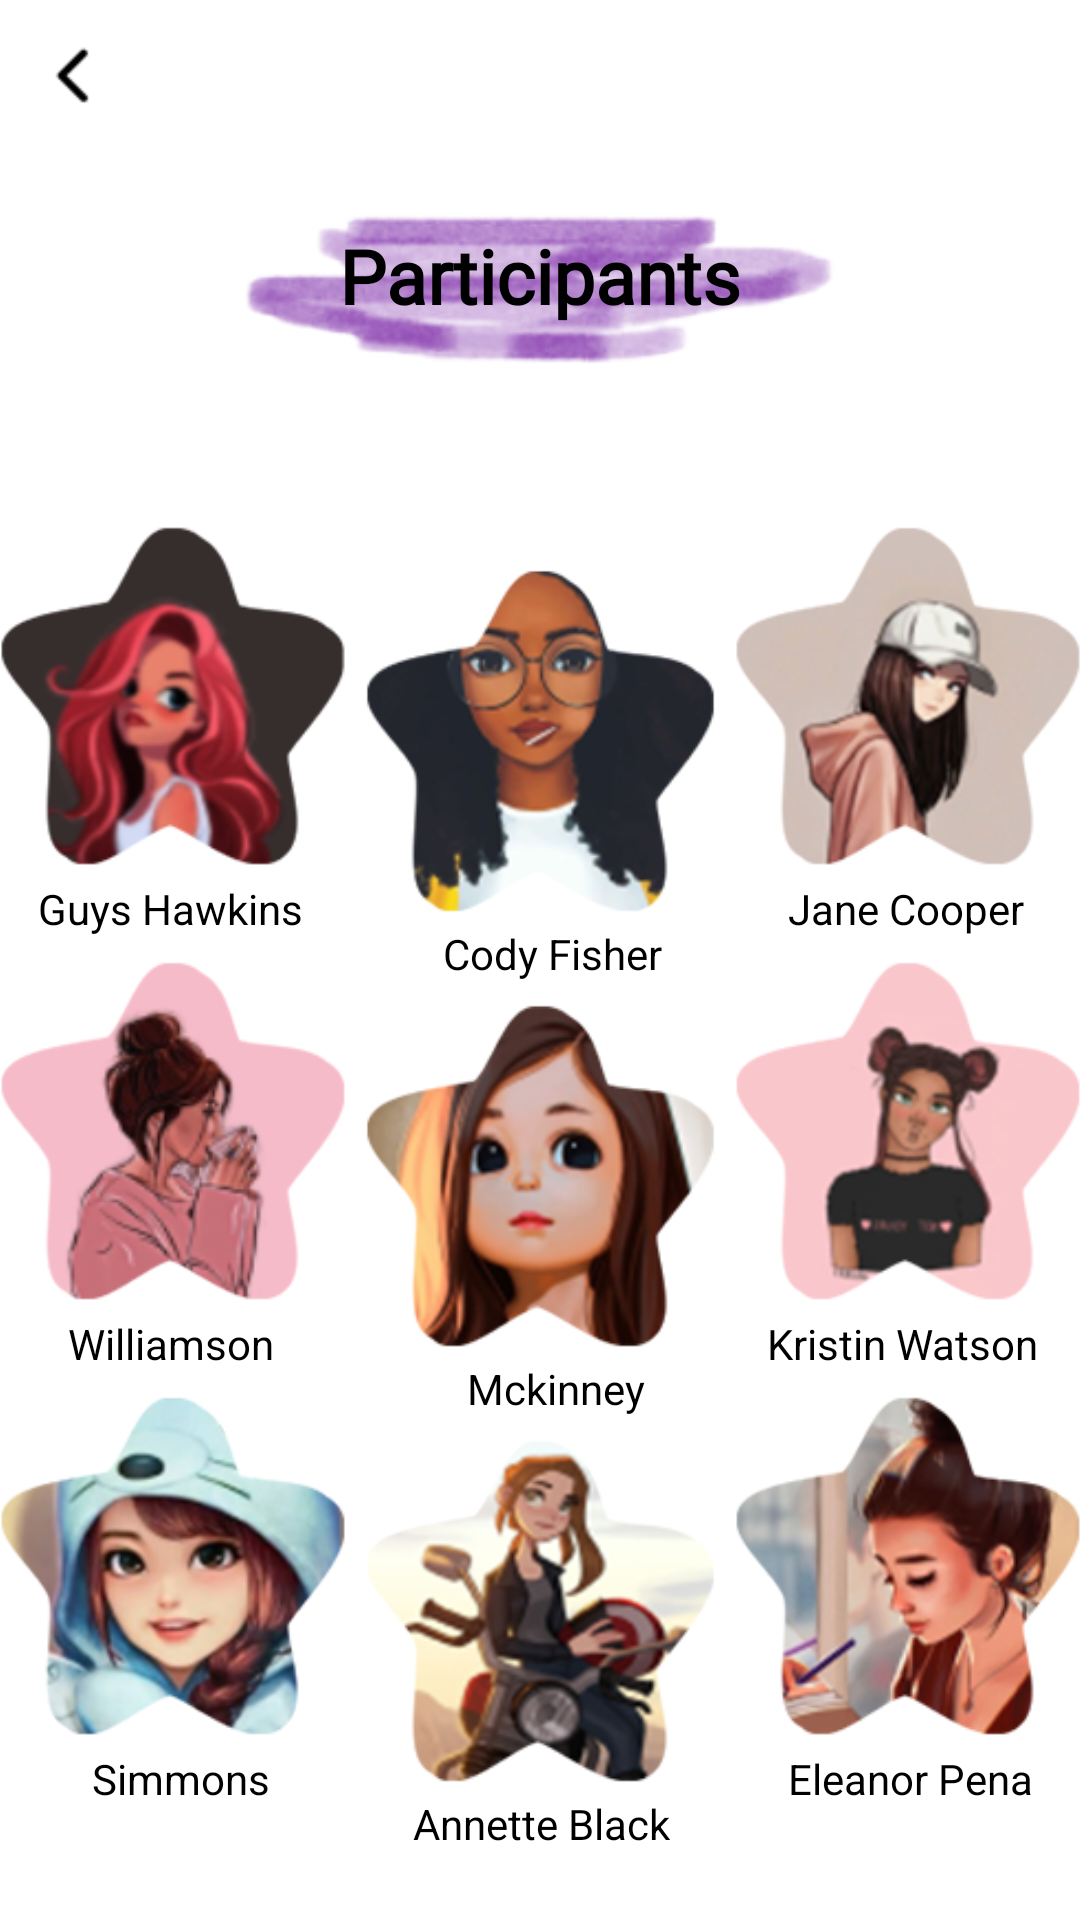

Where icons sit on this 1080×1920 app screen, as (x1, y1, x2, y2):
left: (56, 48, 89, 103)
